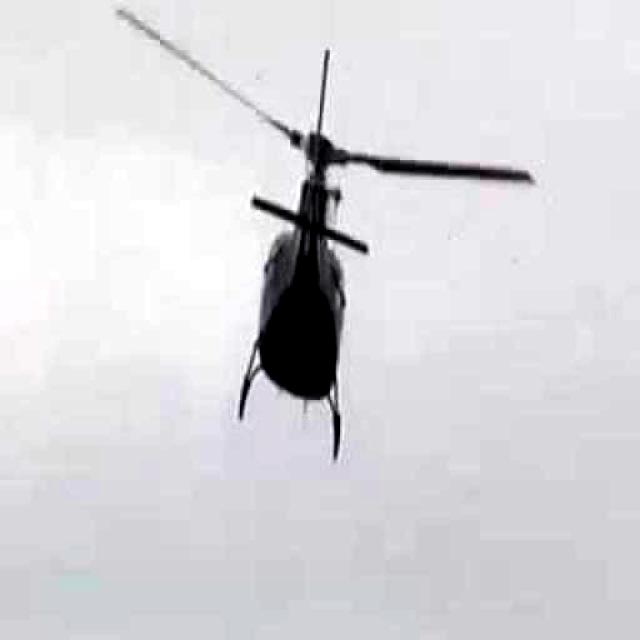drone: (14, 0, 594, 582)
